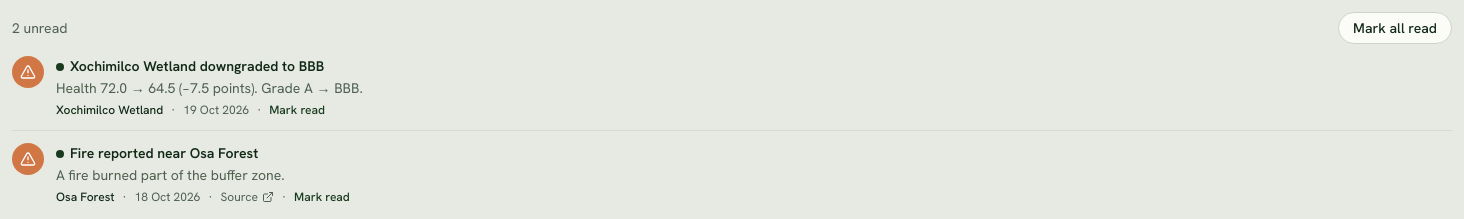
Scenario: AlertsList › marks one alert read, then refetches
Step 1. Click the button named "Mark read: Xochimilco Wetland downgraded to BBB" → (297, 110), box top-left (269, 102), bottom-right (325, 118)
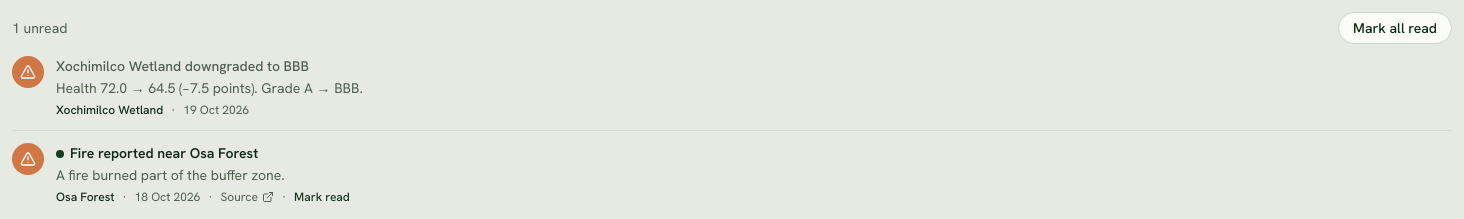
Result: the text "1 unread" is shown at top-left (12, 18), bottom-right (68, 38)
